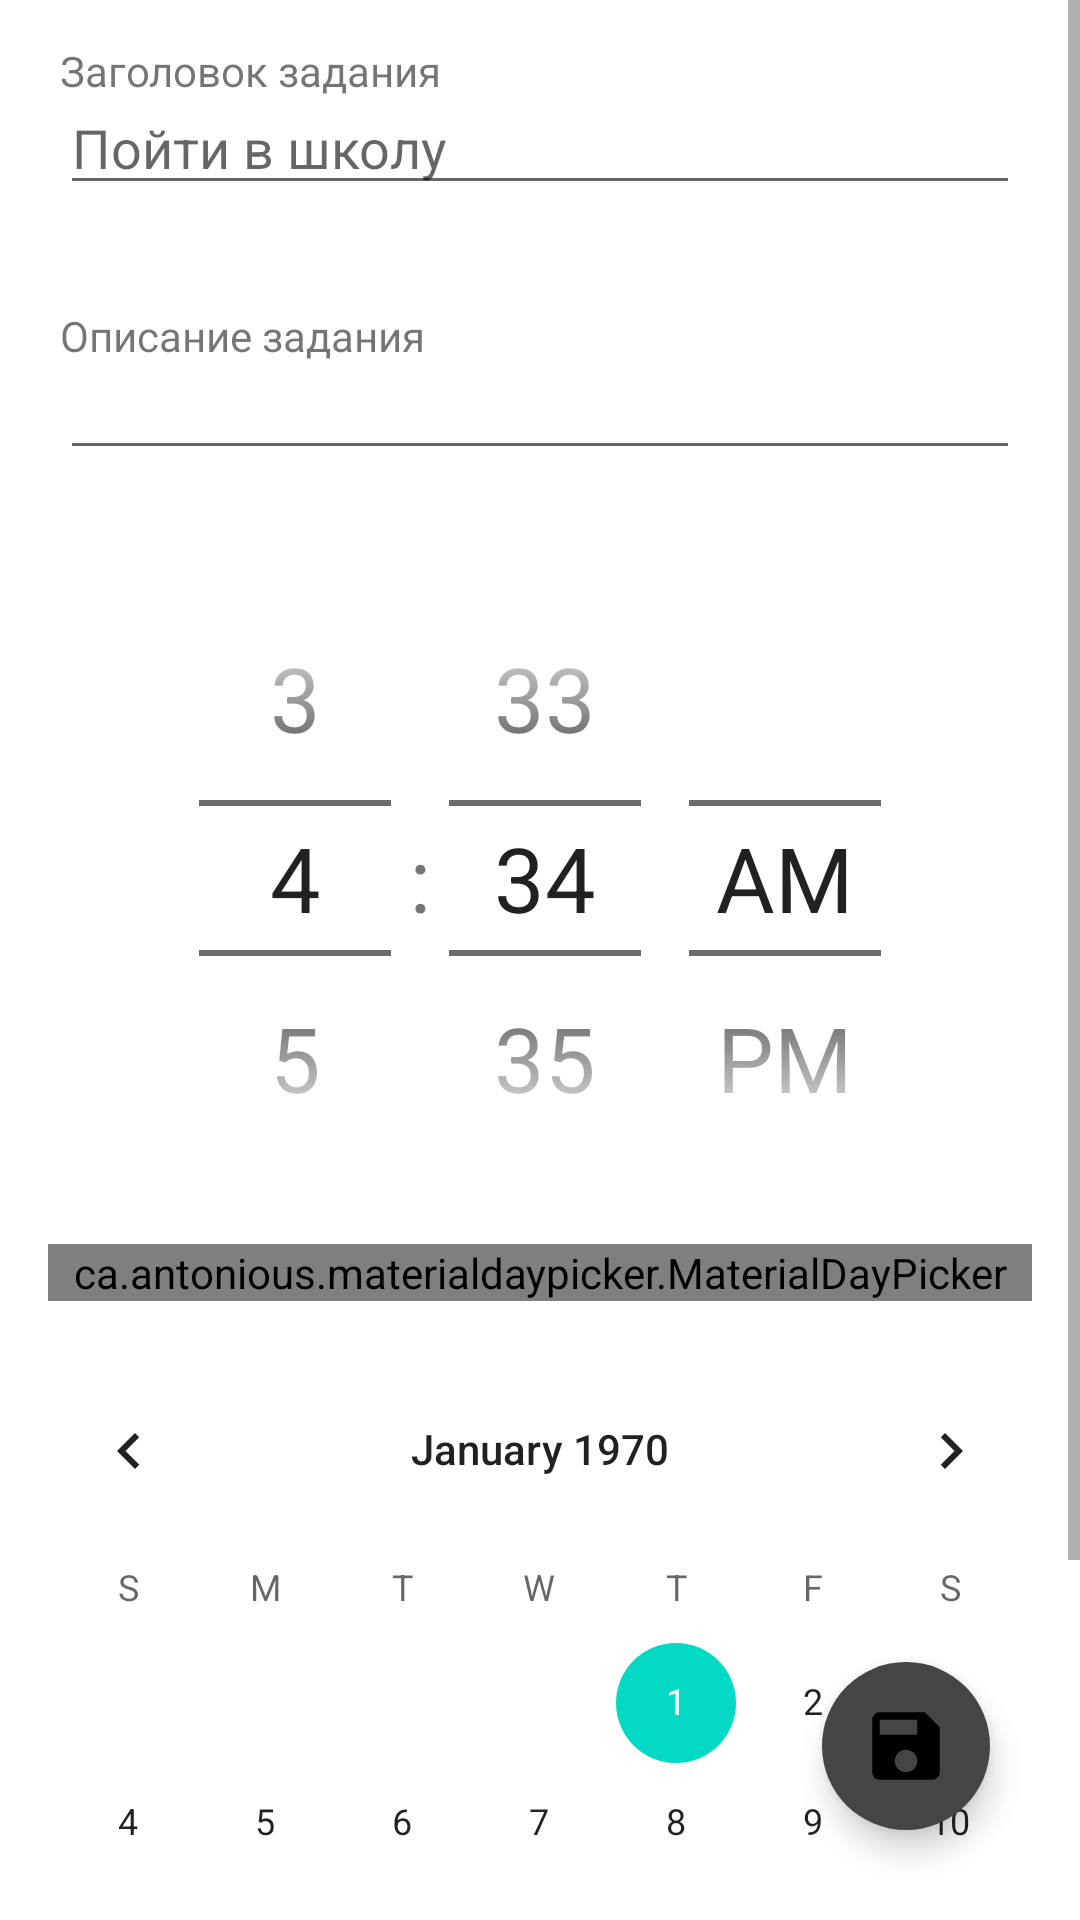

Screen size 1080x1920. Icon name, then its center in pixels as point (x, y):
SAVE: point (906, 1746)
